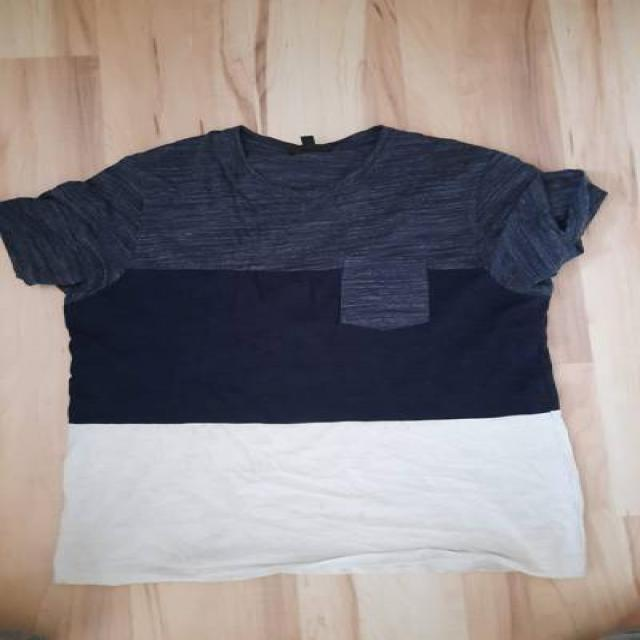Clothes -Biodegradable-: (0, 127, 604, 581)
